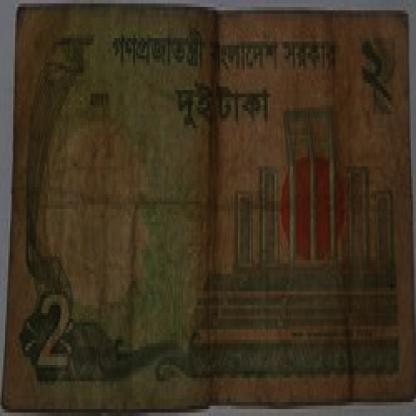two taka: (29, 278, 86, 388), (356, 31, 404, 108)
